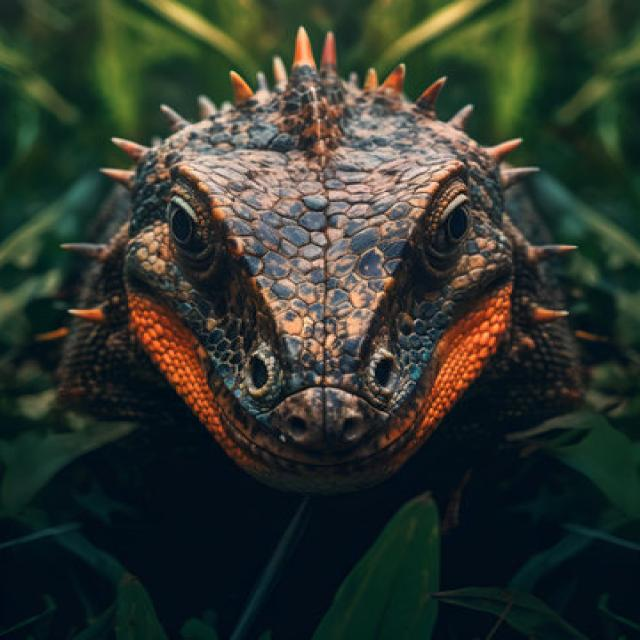Carnivorous: (57, 30, 583, 498)
